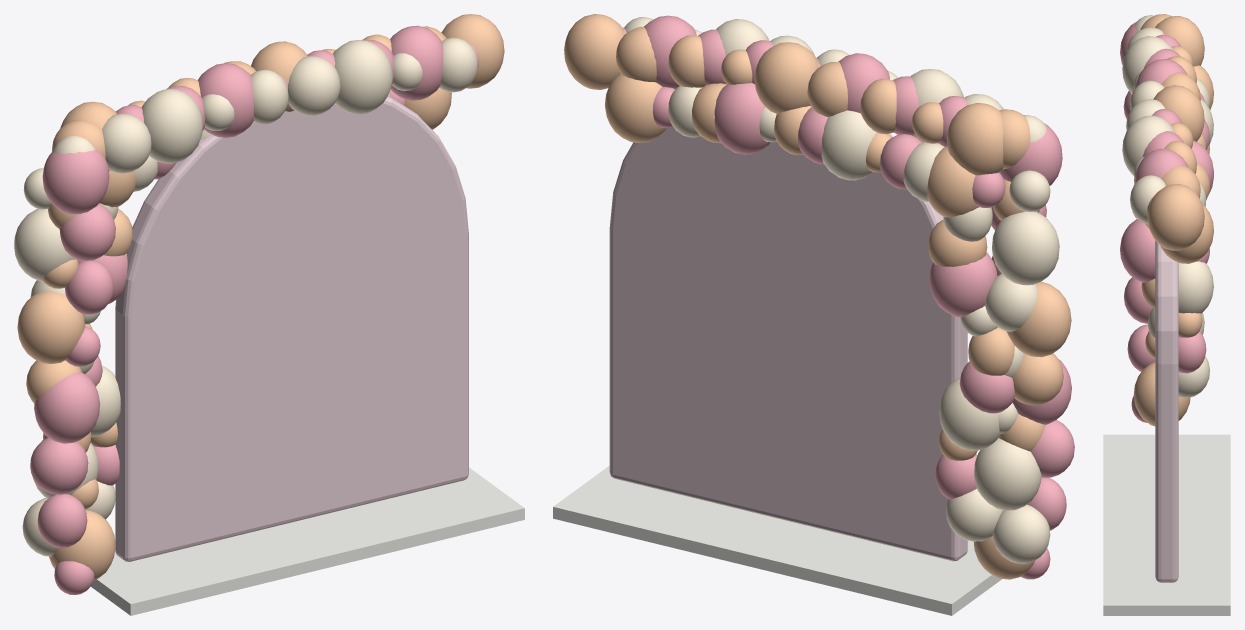
Rendered from backdrop-balloon-garland.glb.
3 renders of one model, left to right at view 1: azimuth 30°, elevation 25°; view 2: azimuth 150°, elevation 25°; view 3: azimuth 270°, elevation 25°, orthographic. The views are drawn at different scales.
Parts seen in each view (by area): view 1: BS_ArchedPhotoWall, BS_WallFoot, BS_Balloon_13, BS_Balloon_29, BS_Balloon_41, BS_Balloon_21, BS_Balloon_09, BS_Balloon_17, BS_Balloon_06, BS_Balloon_38, BS_Balloon_33, BS_Balloon_45 (+24 smaller); view 2: BS_ArchedPhotoWall, BS_WallFoot, BS_Balloon_17, BS_Balloon_05, BS_Balloon_49, BS_Balloon_37, BS_Balloon_25, BS_Balloon_69, BS_Balloon_73, BS_Balloon_57, BS_Balloon_13, BS_Balloon_65 (+39 smaller); view 3: BS_WallFoot, BS_ArchedPhotoWall, BS_Balloon_49, BS_Balloon_09, BS_Balloon_53, BS_Balloon_37, BS_Balloon_41, BS_Balloon_01, BS_Balloon_25, BS_Balloon_29, BS_Balloon_73, BS_Balloon_45 (+27 smaller).
Part boxes in pixels (bbox=[...]): BS_ArchedPhotoWall: bbox=[115, 95, 468, 561]; BS_WallFoot: bbox=[90, 467, 524, 615]; BS_Balloon_13: bbox=[17, 291, 85, 363]; BS_Balloon_29: bbox=[142, 88, 202, 163]; BS_Balloon_41: bbox=[333, 40, 392, 114]; BS_Balloon_21: bbox=[42, 149, 109, 214]; BS_Balloon_09: bbox=[34, 372, 100, 443]; BS_Balloon_17: bbox=[14, 208, 77, 281]; BS_Balloon_06: bbox=[30, 437, 88, 494]; BS_Balloon_38: bbox=[288, 56, 340, 115]; BS_Balloon_33: bbox=[197, 63, 254, 137]; BS_Balloon_45: bbox=[390, 25, 443, 100]; BS_ArchedPhotoWall: bbox=[609, 127, 967, 561]; BS_WallFoot: bbox=[553, 465, 1001, 615]; BS_Balloon_17: bbox=[992, 211, 1059, 285]; BS_Balloon_05: bbox=[974, 438, 1041, 510]; BS_Balloon_49: bbox=[564, 14, 624, 89]; BS_Balloon_37: bbox=[754, 42, 818, 113]; BS_Balloon_25: bbox=[946, 103, 1003, 175]; BS_Balloon_69: bbox=[714, 83, 770, 154]; BS_Balloon_73: bbox=[605, 73, 666, 142]; BS_Balloon_57: bbox=[929, 252, 997, 317]; BS_Balloon_13: bbox=[1006, 282, 1071, 357]; BS_Balloon_65: bbox=[821, 110, 876, 180]; BS_WallFoot: bbox=[1103, 434, 1230, 615]; BS_ArchedPhotoWall: bbox=[1155, 240, 1178, 582]; BS_Balloon_49: bbox=[1147, 184, 1204, 250]; BS_Balloon_09: bbox=[1120, 219, 1155, 282]; BS_Balloon_53: bbox=[1178, 261, 1213, 313]; BS_Balloon_37: bbox=[1153, 85, 1204, 141]; BS_Balloon_41: bbox=[1122, 115, 1175, 175]; BS_Balloon_01: bbox=[1133, 362, 1190, 426]; BS_Balloon_25: bbox=[1155, 16, 1204, 66]; BS_Balloon_29: bbox=[1122, 36, 1173, 94]; BS_Balloon_73: bbox=[1160, 204, 1213, 263]; BS_Balloon_45: bbox=[1135, 148, 1188, 183].
Bounding box in the file's own units: 2.16 × 2.1 × 0.55.
